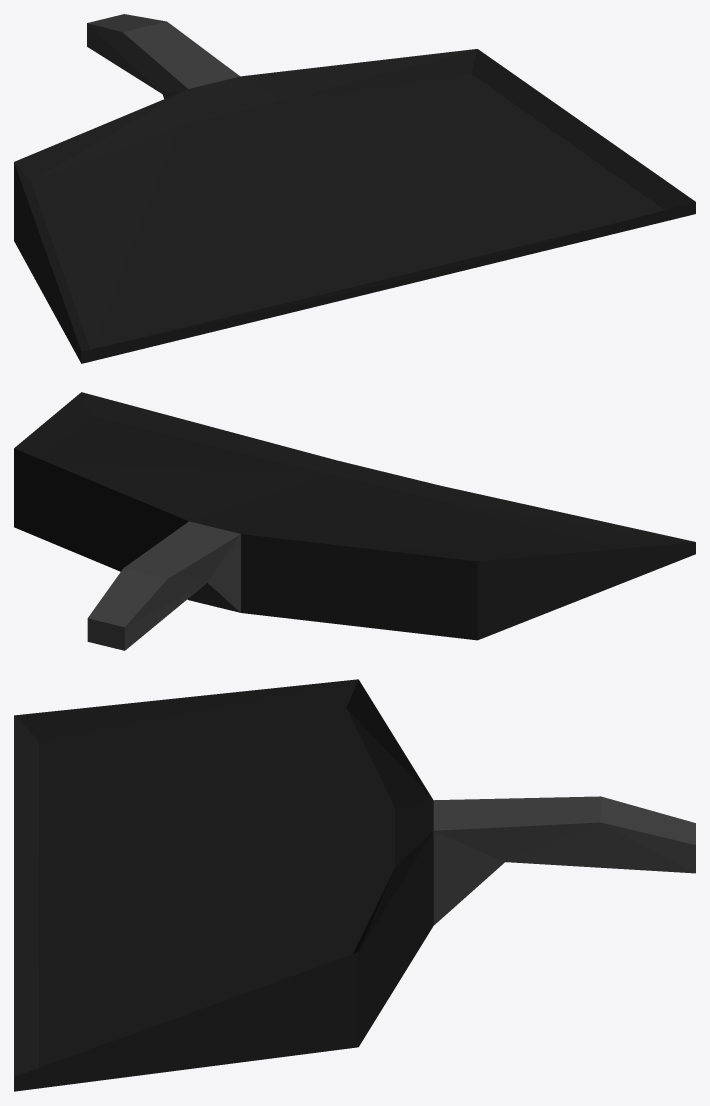
File: Dustpan.FBX
3 views of the same model, one above another, from view 1: azimuth 30°, elevation 25°; view 2: azimuth 150°, elevation 25°; view 3: azimuth 270°, elevation 25° (orthographic). The views are drawn at different scales.
Visible parts, largest first — view 1: Dustpan; view 2: Dustpan; view 3: Dustpan.
Boxes of the visible parts, x1,y1,x2,y2 form: Dustpan: (14,14,695,363); Dustpan: (14,392,695,650); Dustpan: (14,679,695,1091).
Bounding box in the file's own units: 41.55 × 5.42 × 33.12.
